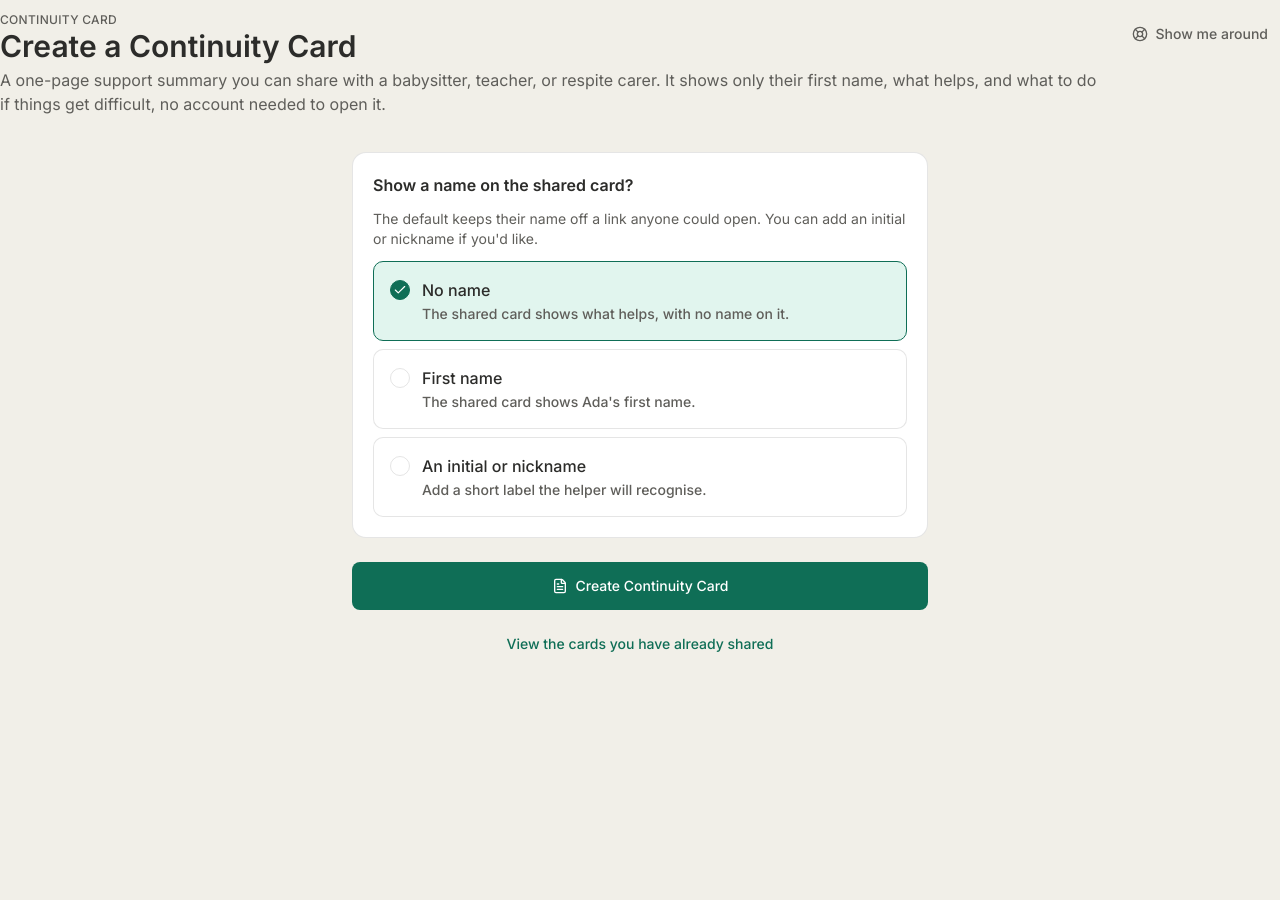
it: CardGenerator › generates the card and renders the preview + the shareable link
Click the button "Create Continuity Card": (640, 586) [352,562,928,610]
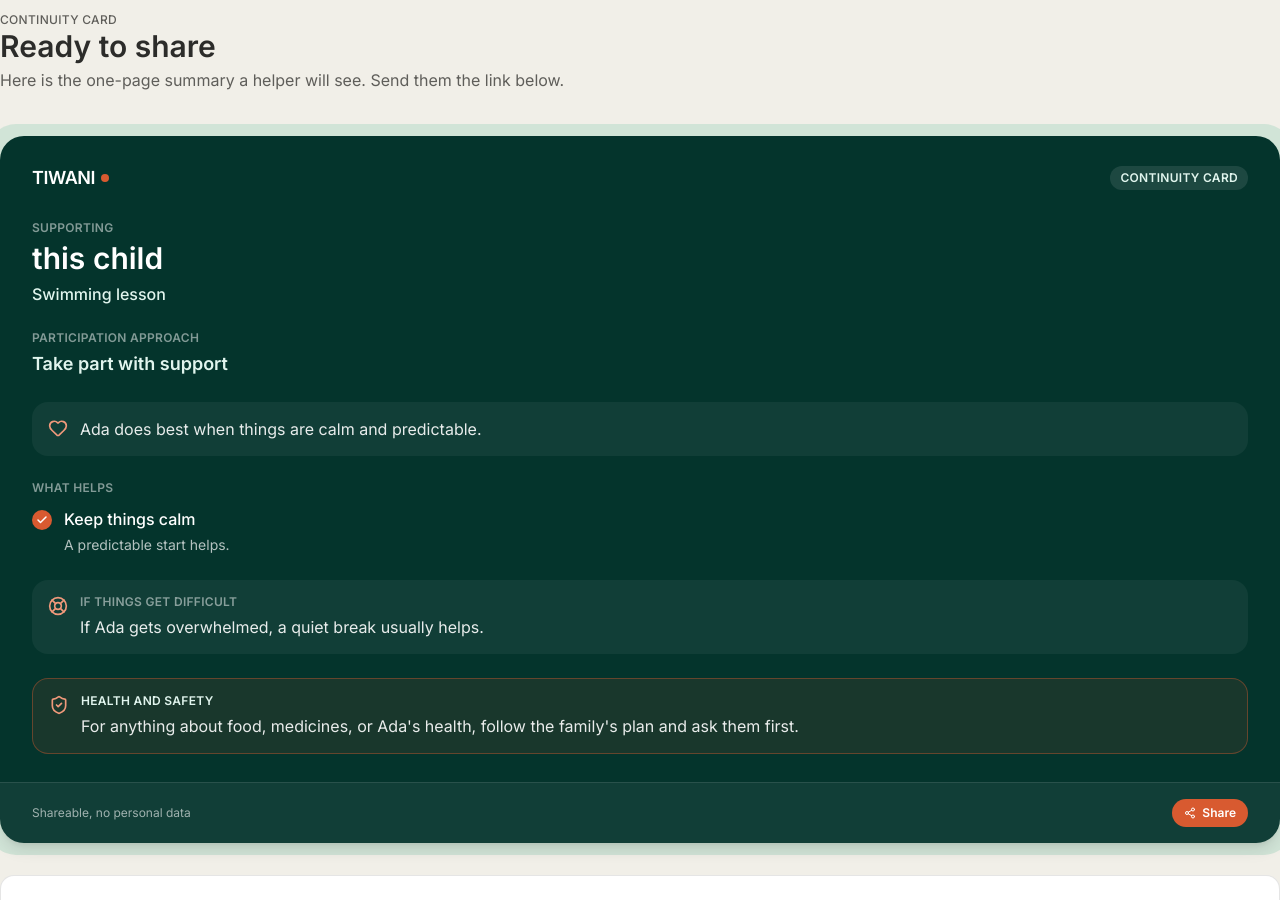
Result: the heading "this child" is shown at [32,240,163,276]
Result: the text "Take part with support" is shown at [32,352,228,374]
